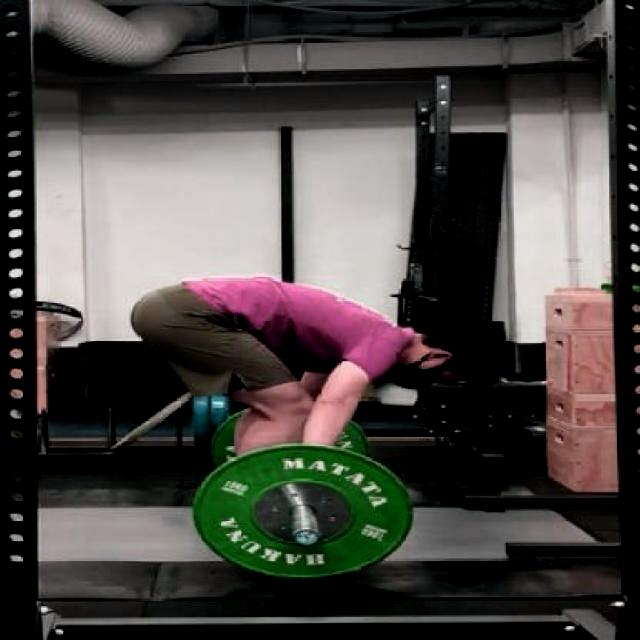barbell: (187, 439, 427, 585)
